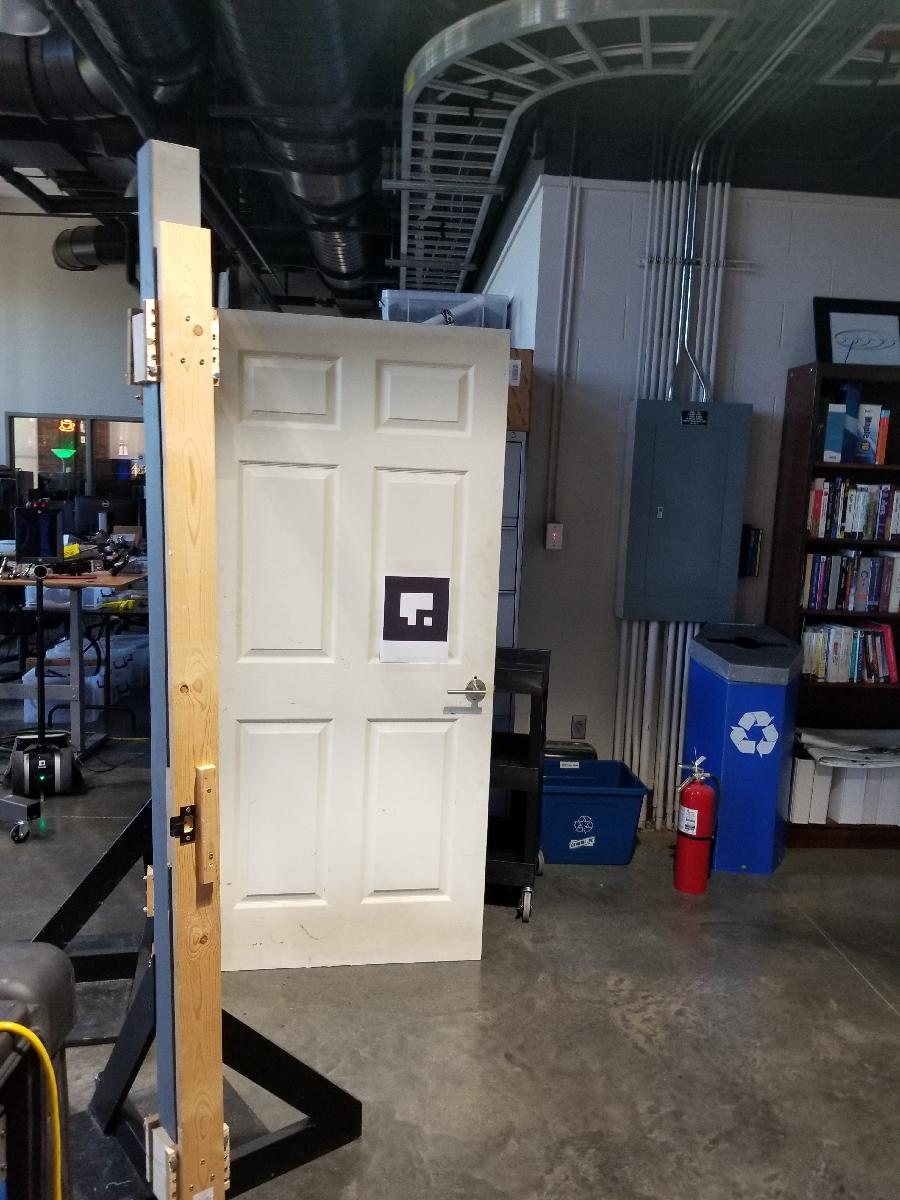door: (193, 303, 511, 979)
doorHandle: (436, 675, 489, 706)
